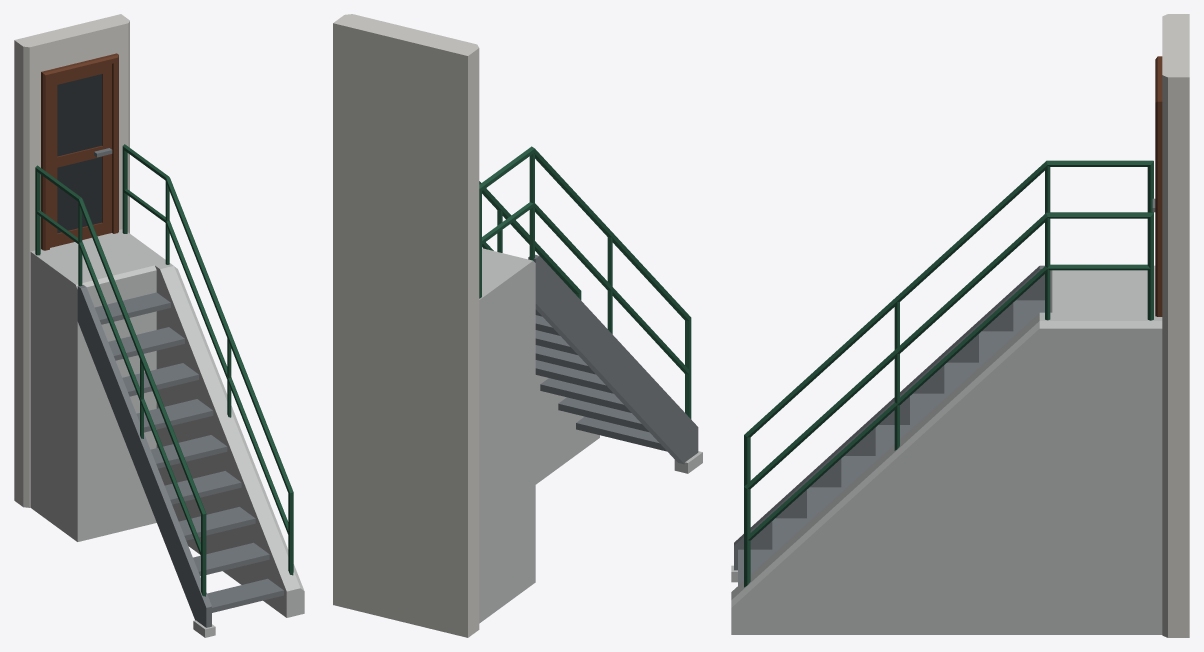
The model's file is external-staircase-89f471.glb.
3 views of the same model, side by side, from view 1: azimuth 30°, elevation 25°; view 2: azimuth 150°, elevation 25°; view 3: azimuth 270°, elevation 25° (orthographic). The views are drawn at different scales.
Parts seen in each view (by area): view 1: external-staircase-mesh; view 2: external-staircase-mesh; view 3: external-staircase-mesh.
Boxes of the visible parts, x1=… form: external-staircase-mesh: x1=14, y1=14, x2=304, y2=637; external-staircase-mesh: x1=333, y1=14, x2=702, y2=637; external-staircase-mesh: x1=731, y1=14, x2=1189, y2=637.
Size of the model in its own units: 1.31 by 5.39 by 4.
